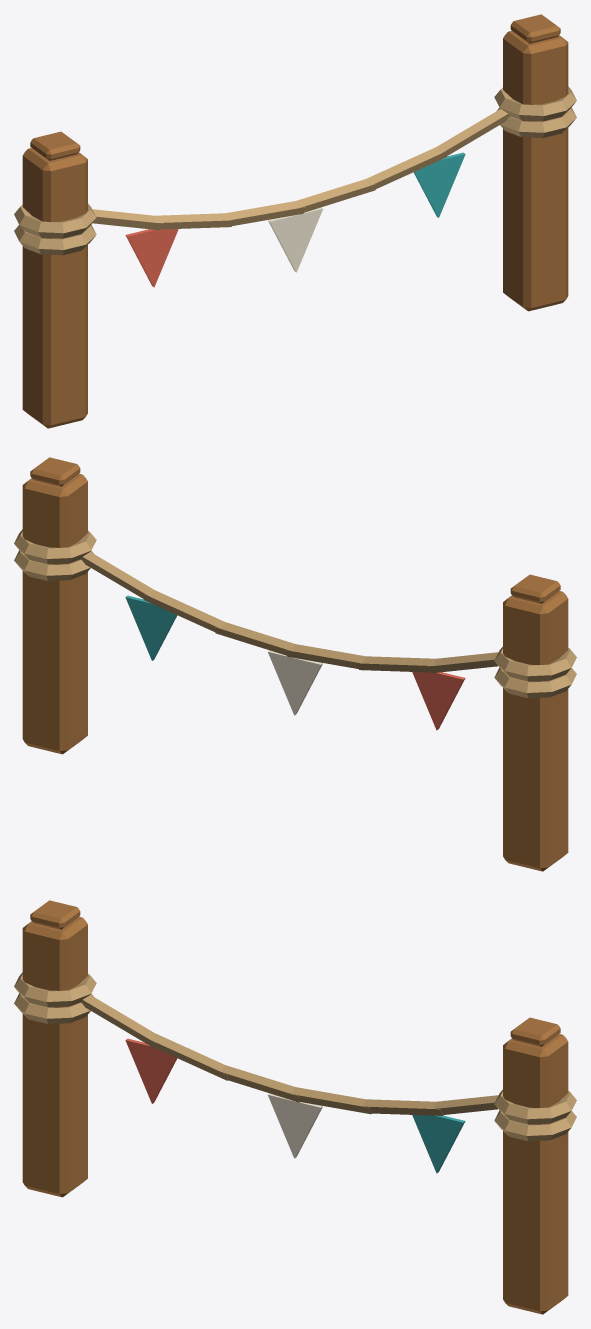
The model's file is rope_posts_bunting.glb.
3 renders of one model, top to bottom at view 1: azimuth 30°, elevation 25°; view 2: azimuth 150°, elevation 25°; view 3: azimuth 330°, elevation 25°, orthographic.
Visible parts, largest first — view 1: rope_posts_bunting, part_flag_1, part_flag_0, part_flag_2; view 2: rope_posts_bunting, part_flag_1, part_flag_0, part_flag_2; view 3: rope_posts_bunting, part_flag_1, part_flag_2, part_flag_0.
Part boxes in pixels (box(x1,y1,x2,y2)): rope_posts_bunting: box(14, 14, 576, 428); part_flag_1: box(268, 207, 322, 272); part_flag_0: box(125, 229, 178, 287); part_flag_2: box(413, 152, 465, 217); rope_posts_bunting: box(14, 457, 576, 871); part_flag_1: box(268, 650, 322, 715); part_flag_0: box(412, 672, 465, 730); part_flag_2: box(125, 595, 177, 660); rope_posts_bunting: box(14, 900, 576, 1314); part_flag_1: box(268, 1093, 322, 1158); part_flag_2: box(412, 1115, 465, 1173); part_flag_0: box(125, 1038, 177, 1103).
Bounding box in the file's own units: 2.07 × 0.99 × 0.2568.
